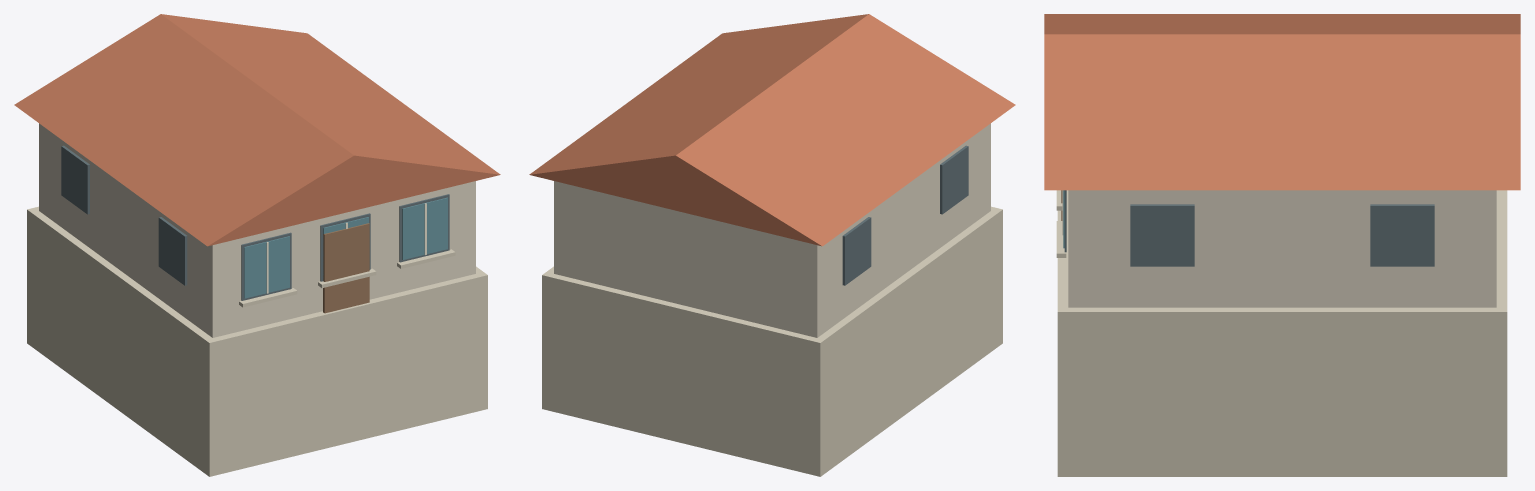
File: farm-3.glb
The picture shows the model from 3 angles, left to right: view 1: azimuth 30°, elevation 25°; view 2: azimuth 150°, elevation 25°; view 3: azimuth 270°, elevation 25°; orthographic projection. The views are drawn at different scales.
Size of the model in its own units: 7.8 by 7.4 by 8.9.
